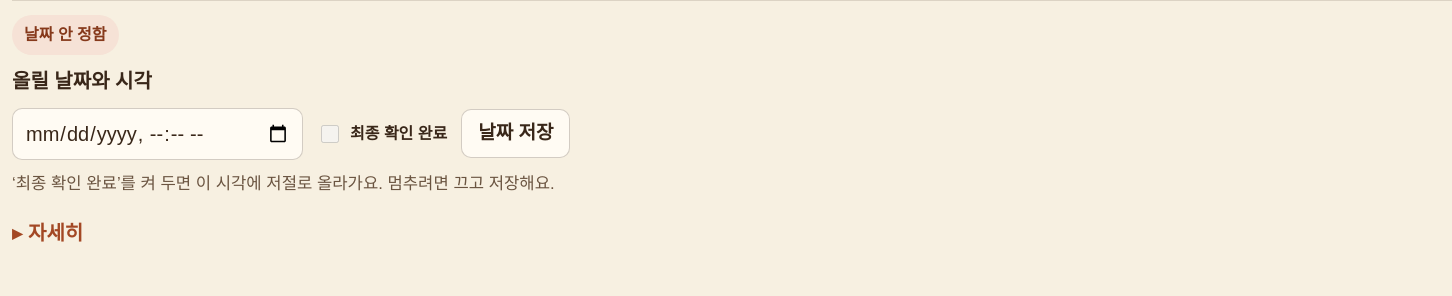
Scenario: saves a Korean-time plan and final review without publishing
In the field labelled "올릴 날짜와 시각": (158, 134) [12,108,303,160], type "2030-05-15T18:00"
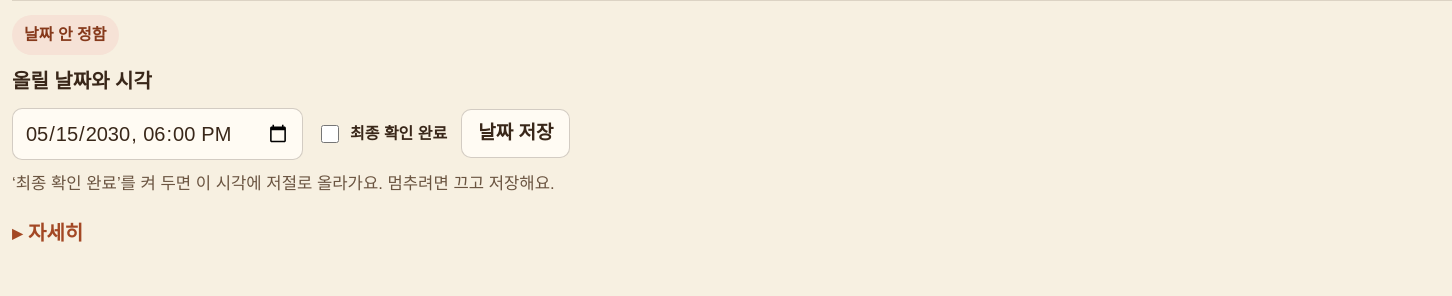
Click the checkbox labelled "최종 확인 완료": click(330, 134) [321,110,339,158]
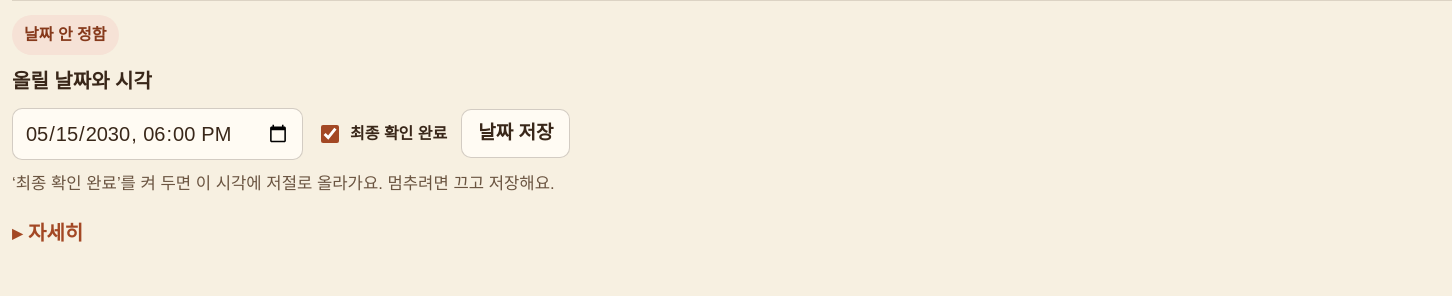
Click the button "날짜 저장": click(516, 134) [461,109,570,158]
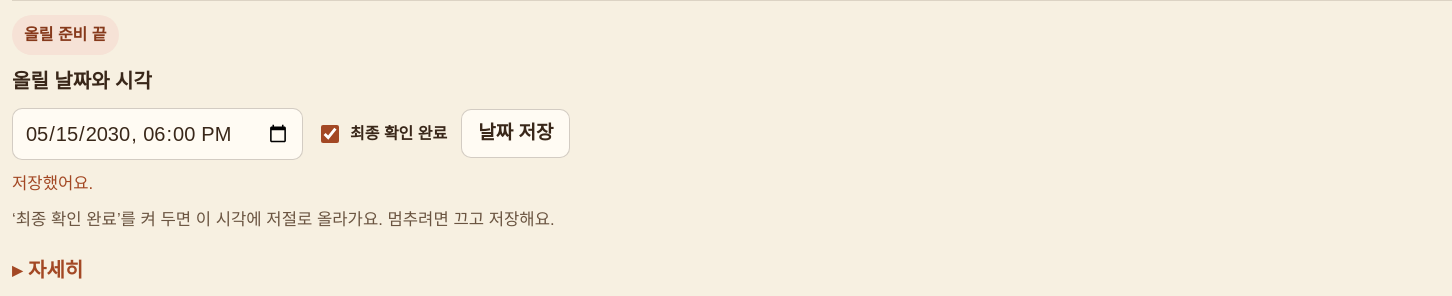
Check: the text "올릴 준비 끝" is shown, box [12,15,118,55]
